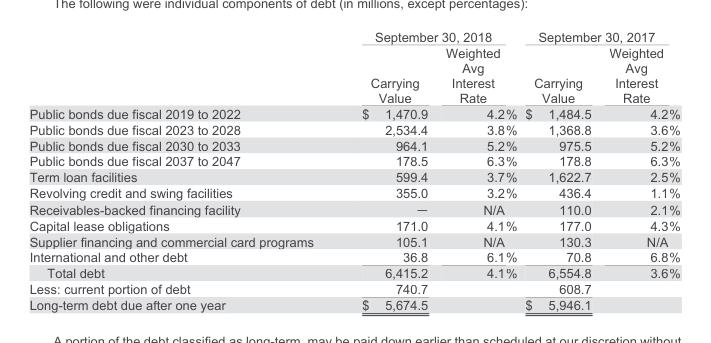table: (28, 29, 679, 312)
table column: (28, 29, 337, 312), (337, 29, 436, 312), (436, 29, 520, 312), (599, 29, 679, 312), (520, 29, 599, 312)
table column header: (28, 29, 679, 105)
table row: (28, 44, 679, 105), (28, 200, 679, 217), (28, 105, 679, 121), (28, 121, 679, 137), (28, 137, 679, 153), (28, 168, 679, 184), (28, 184, 679, 200), (28, 217, 679, 233), (28, 248, 679, 264), (28, 264, 679, 280), (28, 280, 679, 296), (28, 296, 679, 312), (28, 29, 679, 44), (28, 153, 679, 168), (28, 233, 679, 248)
table spanning cell: (337, 29, 520, 44), (520, 29, 679, 44)
